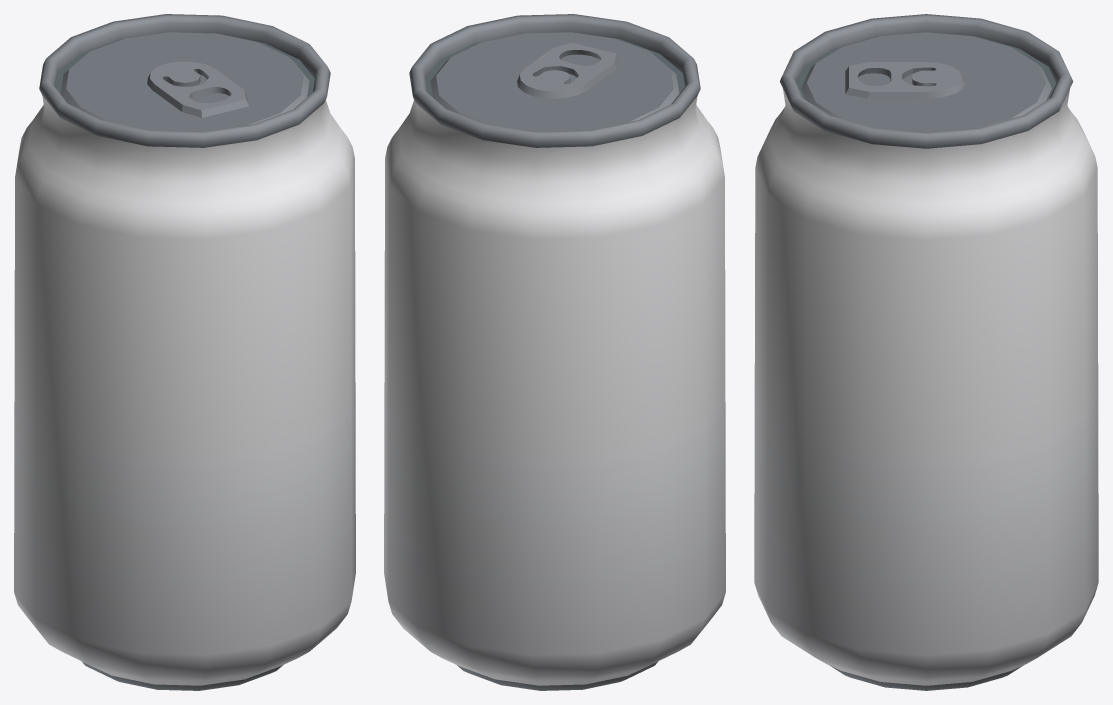
The model's file is Soda_Can_06.fbx.
3 views of the same model, side by side, from view 1: azimuth 30°, elevation 25°; view 2: azimuth 150°, elevation 25°; view 3: azimuth 270°, elevation 25° (orthographic).
Visible parts, largest first — view 1: Soda_Can_06; view 2: Soda_Can_06; view 3: Soda_Can_06.
Boxes of the visible parts, x1,y1,x2,y2 form: Soda_Can_06: (14,14,355,690); Soda_Can_06: (384,14,725,690); Soda_Can_06: (754,14,1098,690).
Size of the model in its own units: 74.58 by 74.58 by 136.
